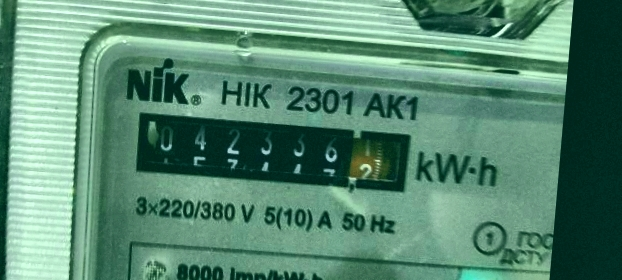0: (156, 123, 174, 152)
1: (359, 135, 373, 158)
2: (224, 125, 243, 155), (355, 160, 373, 180)
3: (288, 128, 307, 159), (256, 127, 273, 156)
4: (190, 121, 210, 152)
6: (322, 133, 341, 164)
screen: (122, 98, 423, 204)
